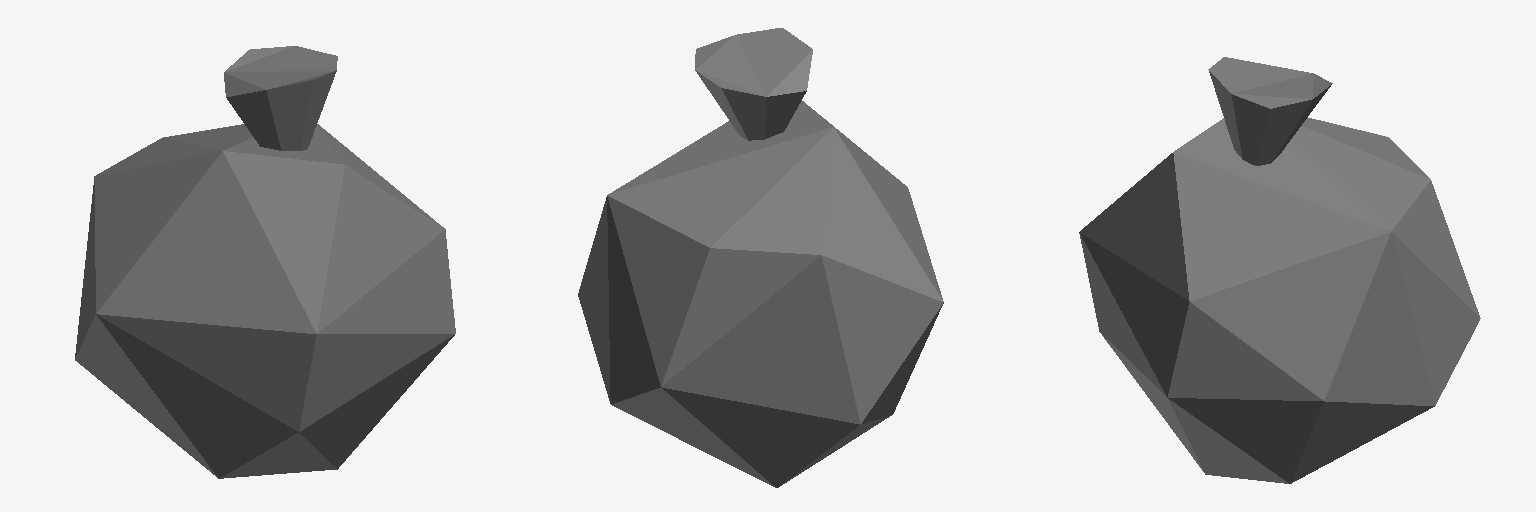
File: garbage_bag.obj
3 views of the same model, side by side, from view 1: azimuth 30°, elevation 25°; view 2: azimuth 150°, elevation 25°; view 3: azimuth 270°, elevation 25° (orthographic).
Visible parts, largest first — view 1: Icosphere; view 2: Icosphere; view 3: Icosphere.
Part boxes in pixels (left/top/right/bottom): Icosphere: left=75, top=46, right=455, bottom=478; Icosphere: left=578, top=28, right=943, bottom=487; Icosphere: left=1079, top=57, right=1480, bottom=483.
Size of the model in its own units: 1.41 by 1.58 by 1.46.